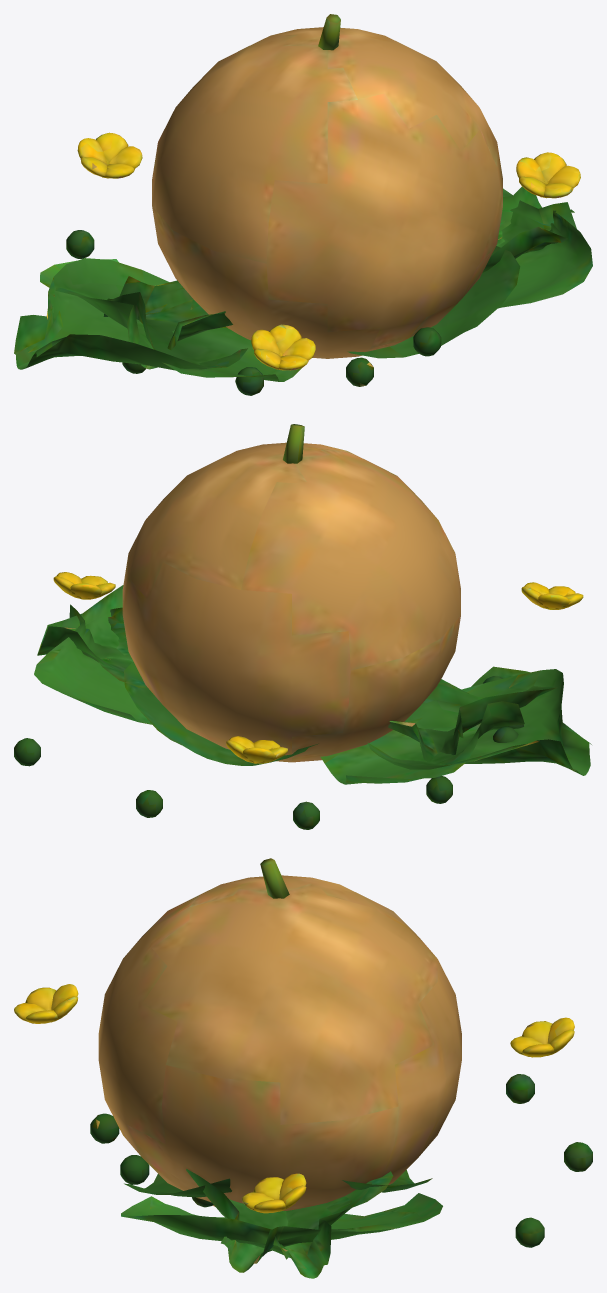
The model's file is crop_cantaloupe.glb.
3 views of the same model, one above another, from view 1: azimuth 30°, elevation 25°; view 2: azimuth 150°, elevation 25°; view 3: azimuth 270°, elevation 25° (orthographic). The views are drawn at different scales.
Visible parts, largest first — view 1: fruit, crop_cantaloupe; view 2: fruit, crop_cantaloupe; view 3: fruit, crop_cantaloupe.
Boxes of the visible parts, box(x1,y1,x2,y2) form: fruit: box(152, 27, 502, 358); crop_cantaloupe: box(14, 14, 592, 395); fruit: box(122, 442, 460, 762); crop_cantaloupe: box(14, 424, 591, 829); fruit: box(98, 875, 461, 1210); crop_cantaloupe: box(14, 858, 592, 1278).
Size of the model in its own units: 0.307 by 0.1732 by 0.2669.
Materials: 1 (1 with a texture image).
